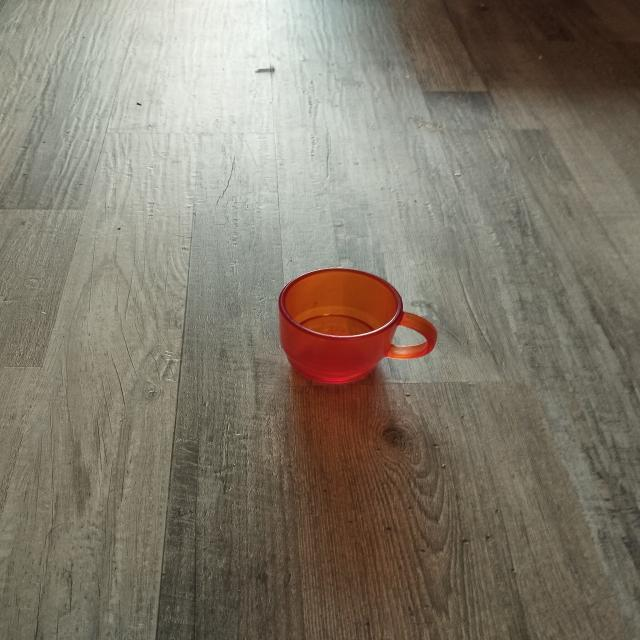Cup: (263, 245, 449, 431)
